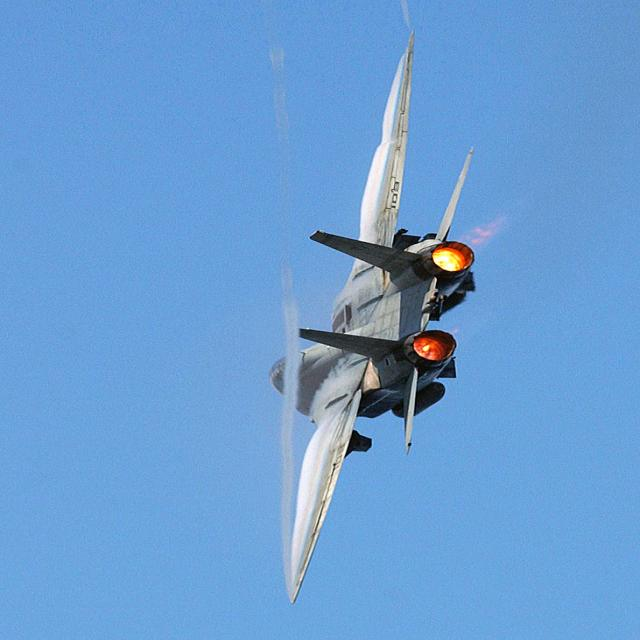MIL_Plane: (269, 30, 476, 605)
